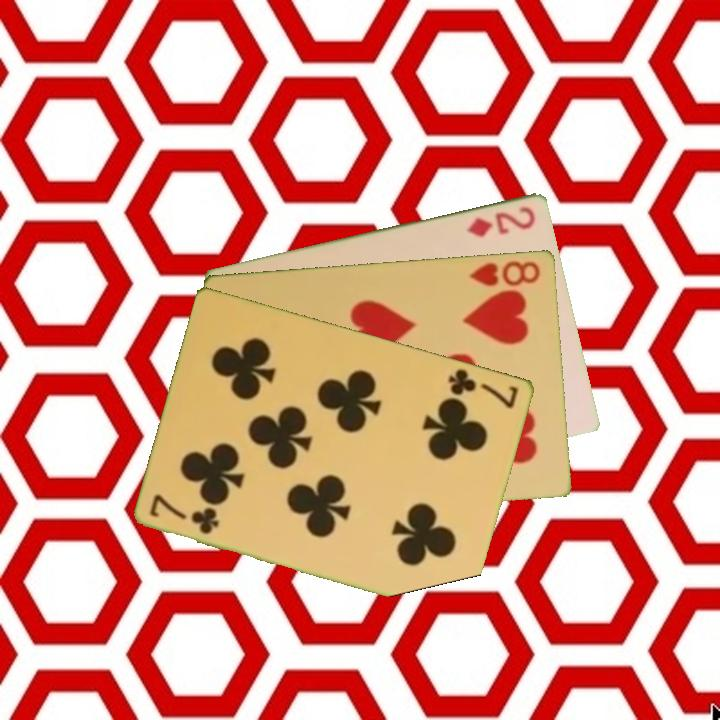2d: (463, 202, 538, 240)
7c: (146, 490, 223, 537), (445, 365, 522, 411)
8h: (465, 257, 544, 289)
